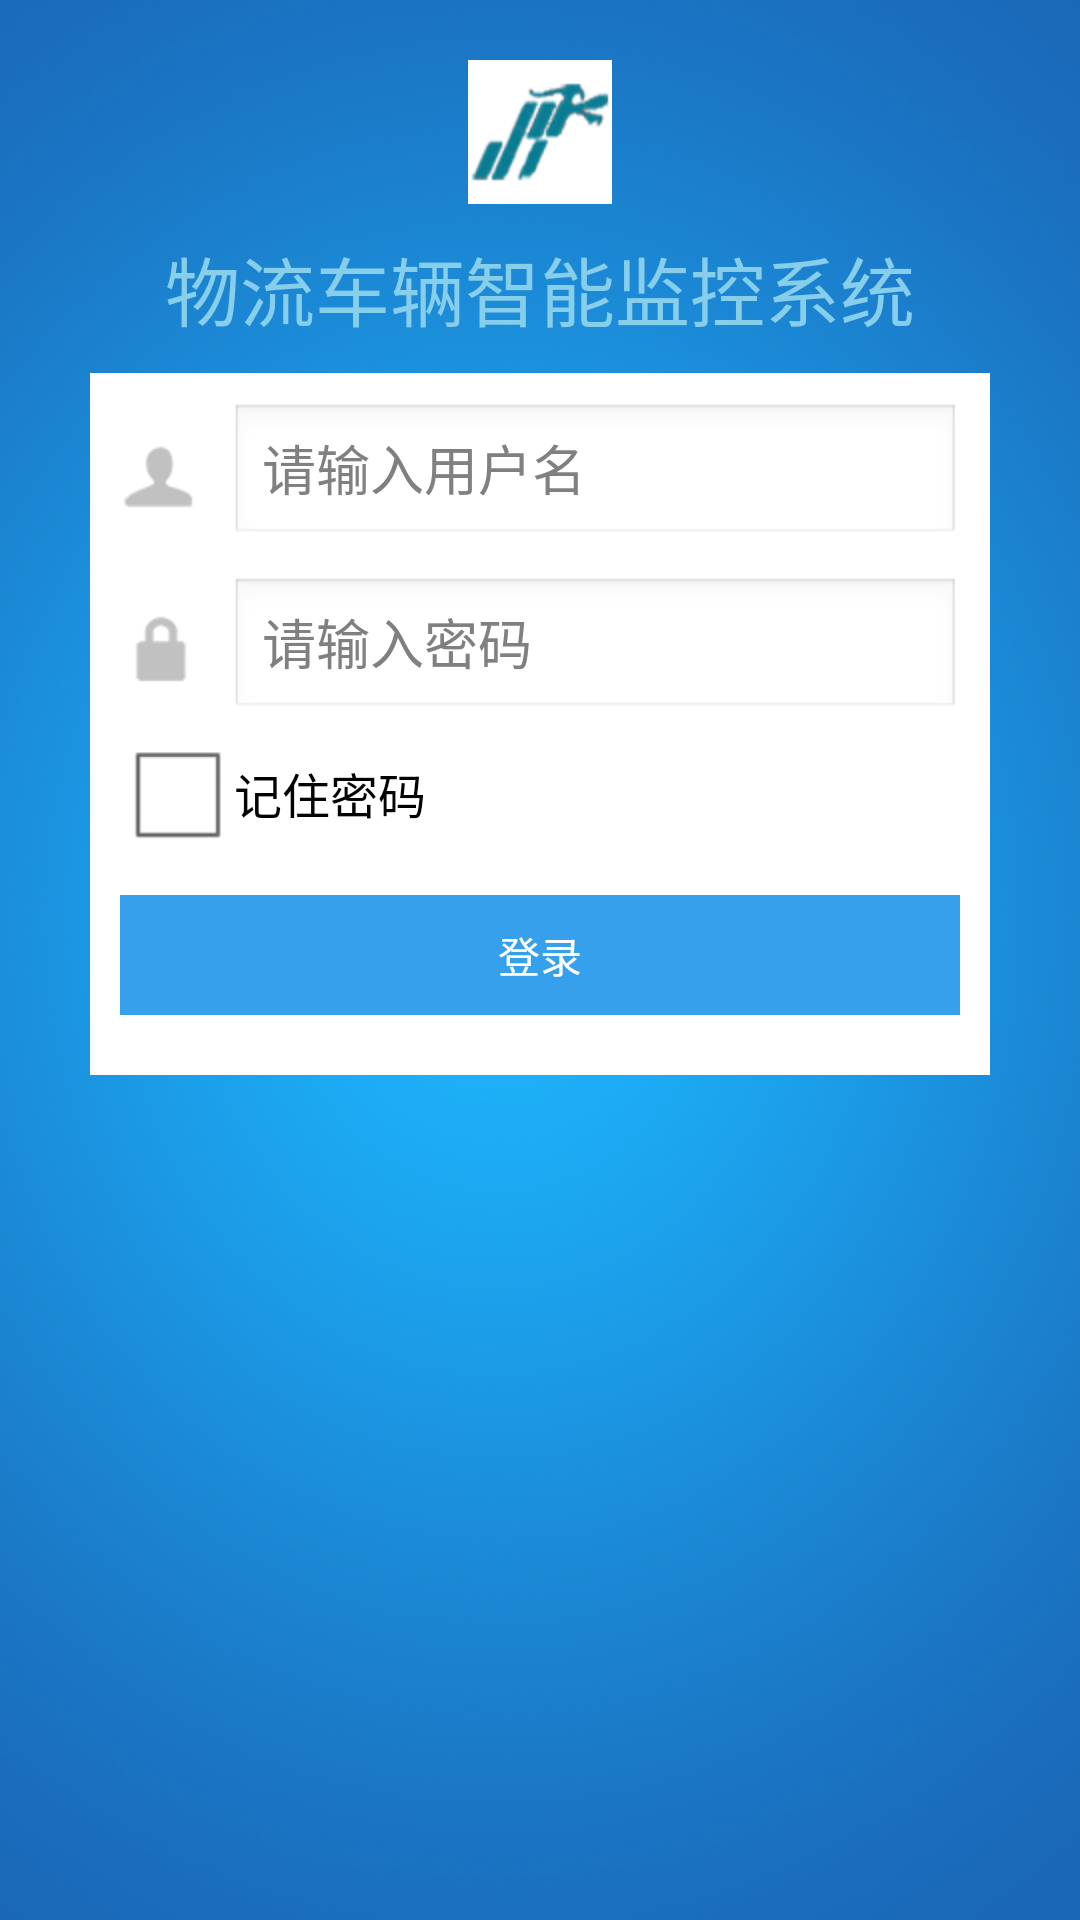

Screen size 1080 × 1920. Icon name, then its box in pixels as box=[x1, y1, x2, y2]:
login password: box=[136, 617, 186, 681]
login user: box=[125, 447, 192, 507]
